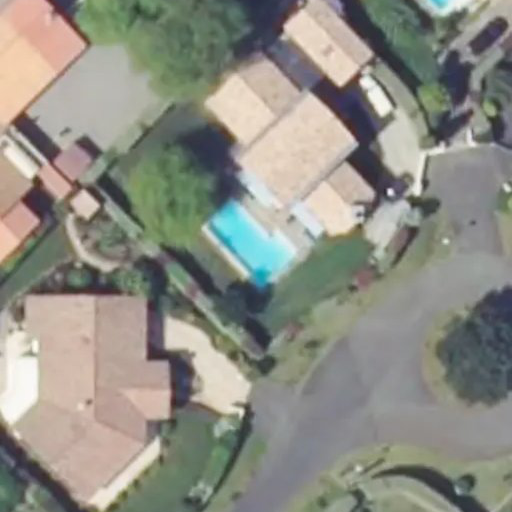pool: (209, 226, 303, 249)
